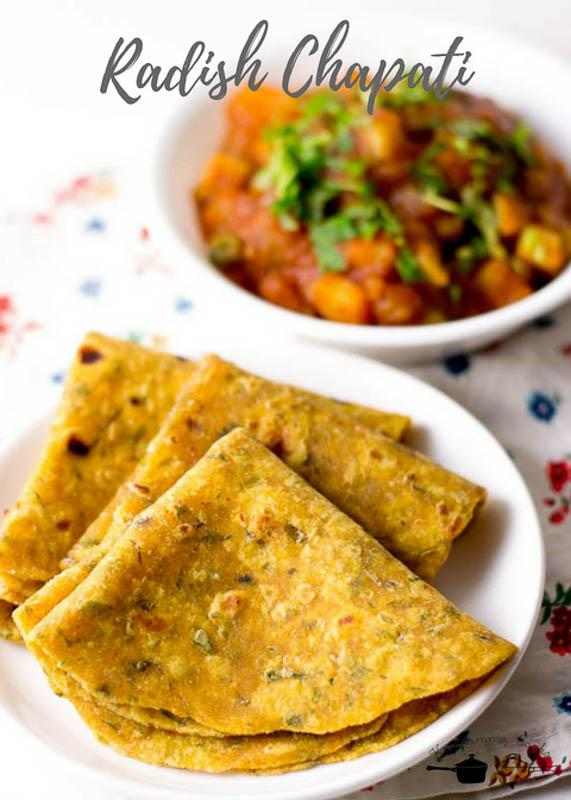chapati: (66, 355, 486, 579)
